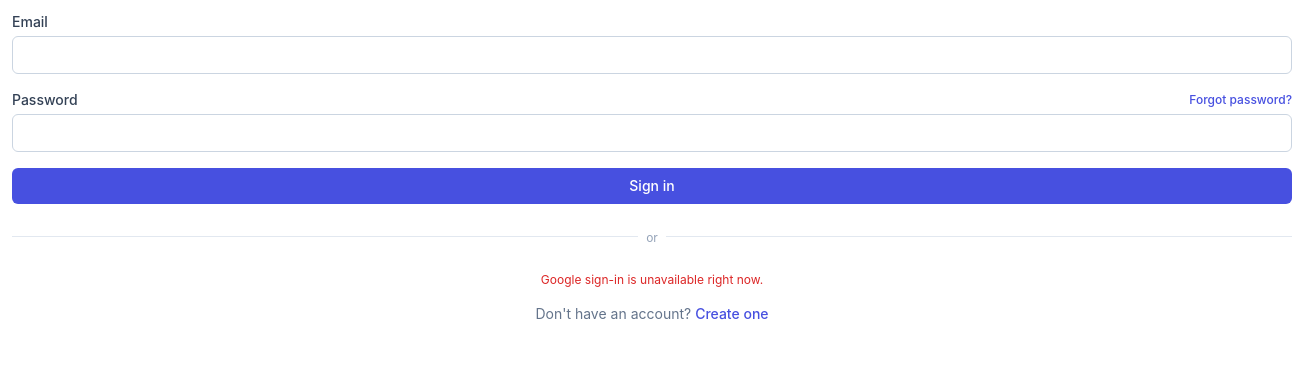
Test case: LoginForm › displays a server-provided error message on failed login
Step 1. Type "jane@example.com" into the field labelled "Email" → (652, 55), box [12,36,1292,74]
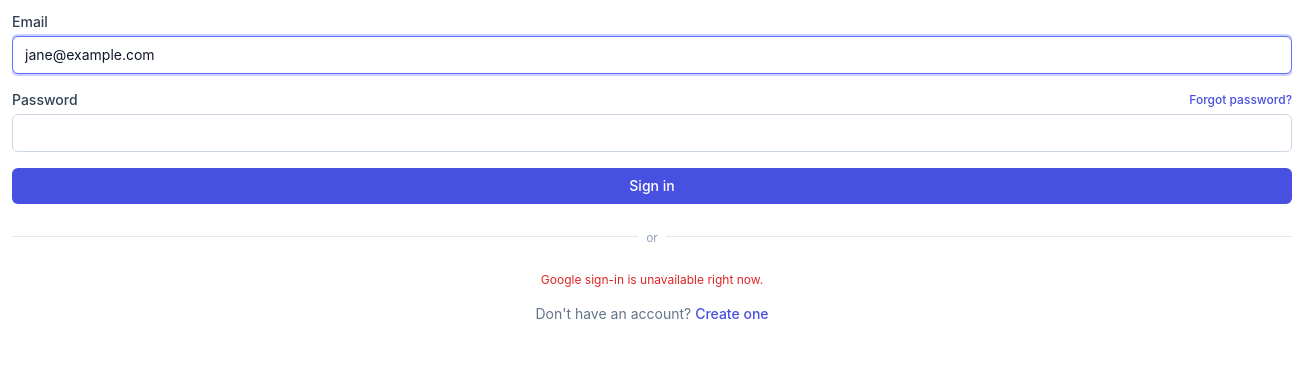
Step 2. Type "WrongPassword!" into the password field labelled "Password" → (652, 133), box [12,114,1292,152]
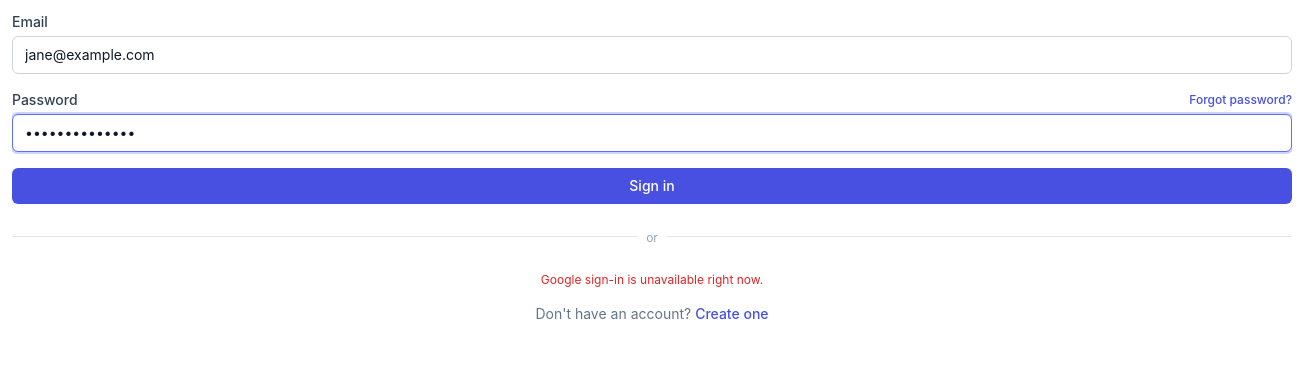
Step 3. Click the button "Sign in" → (652, 186), box [12,168,1292,204]
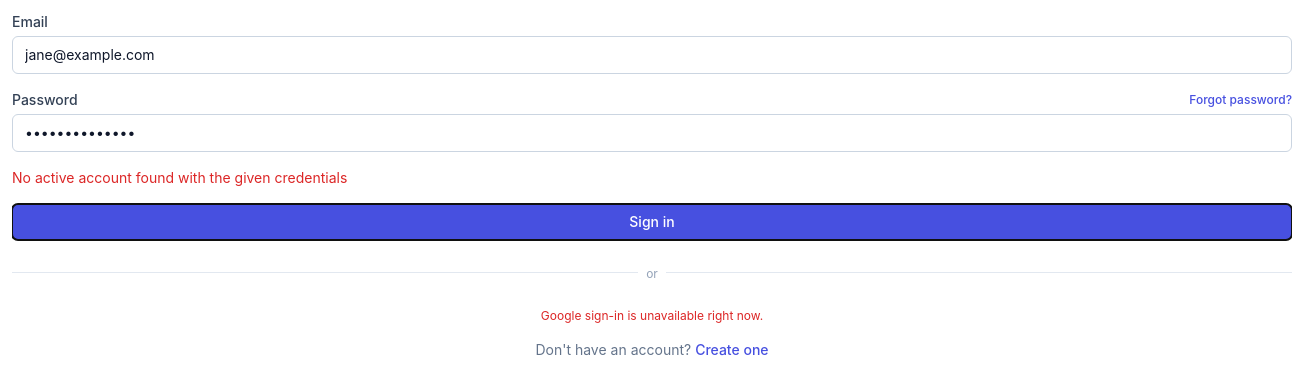
Expected: the text "No active account found with the given credentials" is shown, [12,169,347,186]
